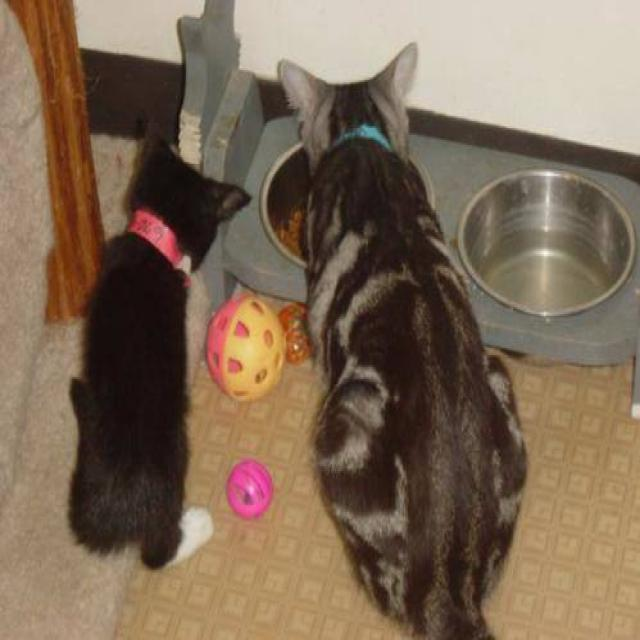cat: (276, 39, 528, 638), (65, 118, 252, 570)
